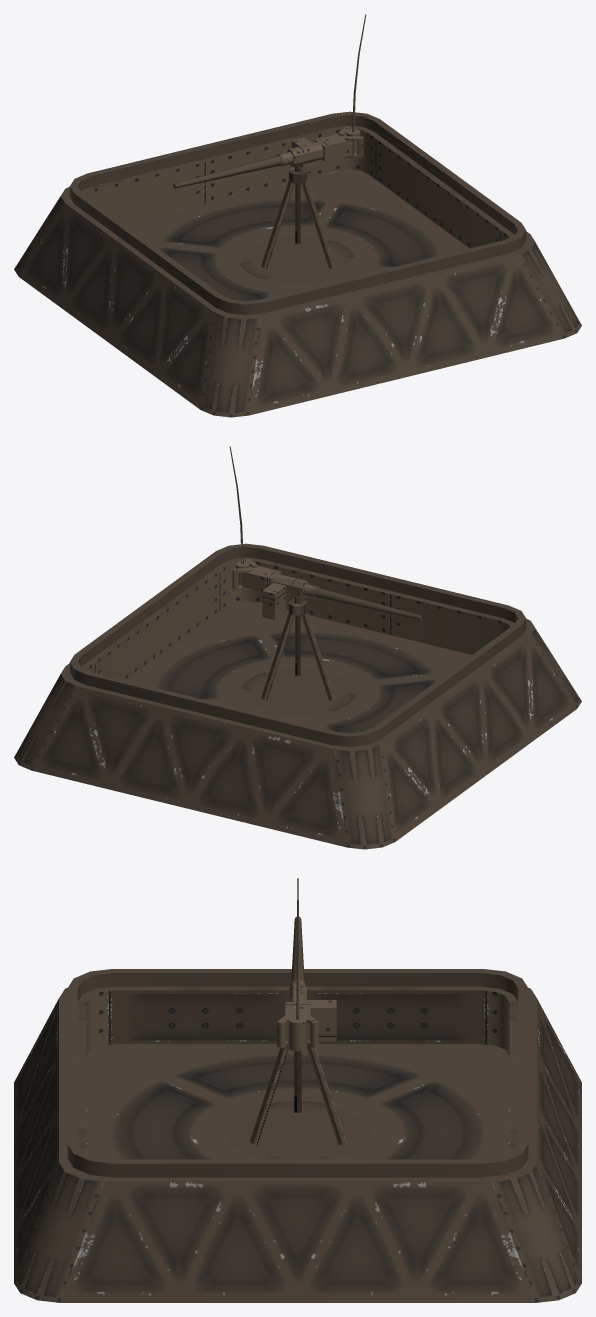
Rendered from Basic_Tower_level1 1.fbx.
3 views of the same model, one above another, from view 1: azimuth 30°, elevation 25°; view 2: azimuth 150°, elevation 25°; view 3: azimuth 270°, elevation 25° (orthographic). The views are drawn at different scales.
Visible parts, largest first — view 1: BT1_Base, BT1_Gun, BT1_Tripod; view 2: BT1_Base, BT1_Gun, BT1_Tripod; view 3: BT1_Base, BT1_Gun, BT1_Tripod.
Part boxes in pixels (box(x1,y1,x2,y2)): BT1_Base: box(14, 111, 581, 417); BT1_Gun: box(173, 14, 366, 188); BT1_Tripod: box(261, 164, 334, 268); BT1_Base: box(14, 543, 581, 849); BT1_Gun: box(229, 446, 422, 620); BT1_Tripod: box(261, 596, 334, 700); BT1_Base: box(14, 969, 581, 1302); BT1_Gun: box(277, 878, 336, 1051); BT1_Tripod: box(250, 1045, 345, 1144).
Bounding box in the file's own units: 6 × 4.05 × 6.
